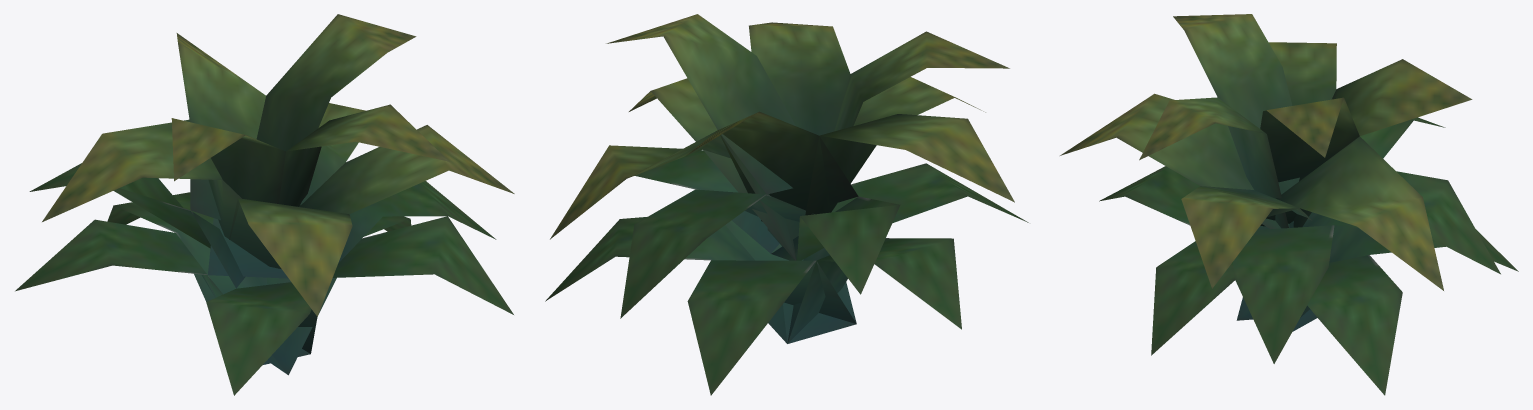
File: wujian03.FBX
The picture shows the model from 3 angles, left to right: view 1: azimuth 30°, elevation 25°; view 2: azimuth 150°, elevation 25°; view 3: azimuth 270°, elevation 25°; orthographic projection. The views are drawn at different scales.
Parts seen in each view (by area): view 1: Object01; view 2: Object01; view 3: Object01.
Boxes of the visible parts, x1,y1,x2,y2 form: Object01: (15, 14, 514, 395); Object01: (545, 14, 1028, 395); Object01: (1060, 14, 1518, 395).
Bounding box in the file's own units: 46.08 × 29.21 × 44.31.
